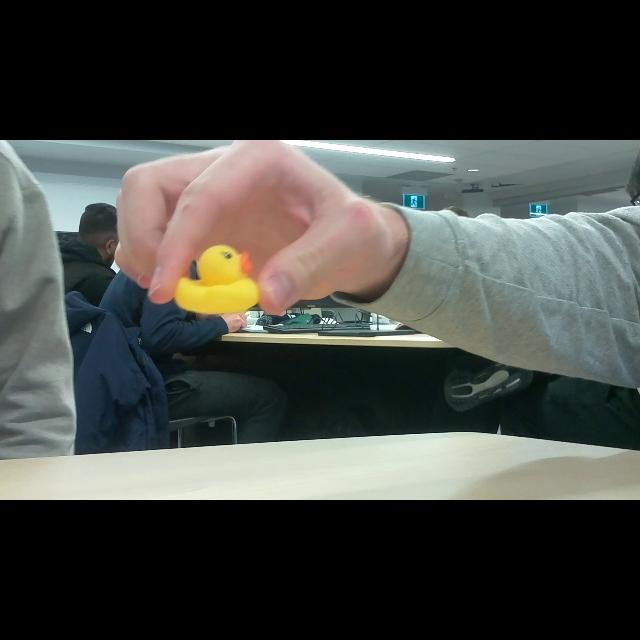duck_regular: (175, 242, 262, 316)
